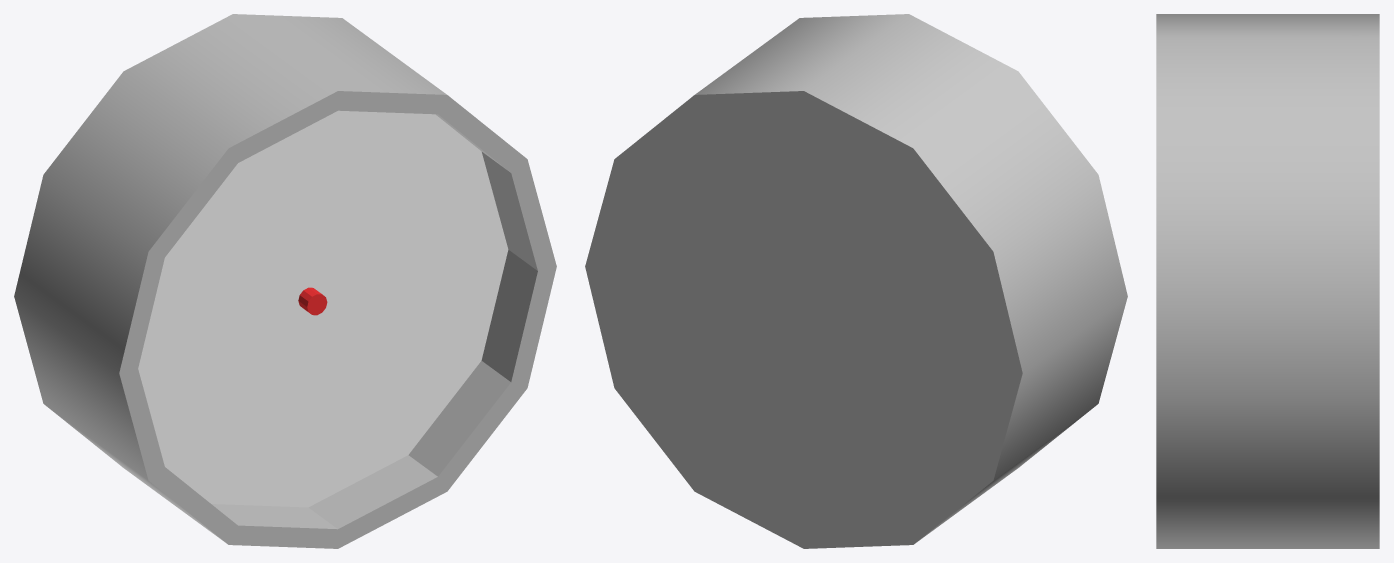
Rendered from Itr_Obj_Alarmclcok_Body_01.FBX.
3 renders of one model, left to right at view 1: azimuth 30°, elevation 25°; view 2: azimuth 150°, elevation 25°; view 3: azimuth 270°, elevation 25°, orthographic. The views are drawn at different scales.
Parts seen in each view (by area): view 1: Itr_Obj_Alarmclcok_Body_01; view 2: Itr_Obj_Alarmclcok_Body_01; view 3: Itr_Obj_Alarmclcok_Body_01.
Boxes of the visible parts, x1,y1,x2,y2 form: Itr_Obj_Alarmclcok_Body_01: (14, 14, 556, 548); Itr_Obj_Alarmclcok_Body_01: (585, 14, 1127, 548); Itr_Obj_Alarmclcok_Body_01: (1156, 14, 1379, 548).
Size of the model in its own units: 3.87 by 3.87 by 1.61.
